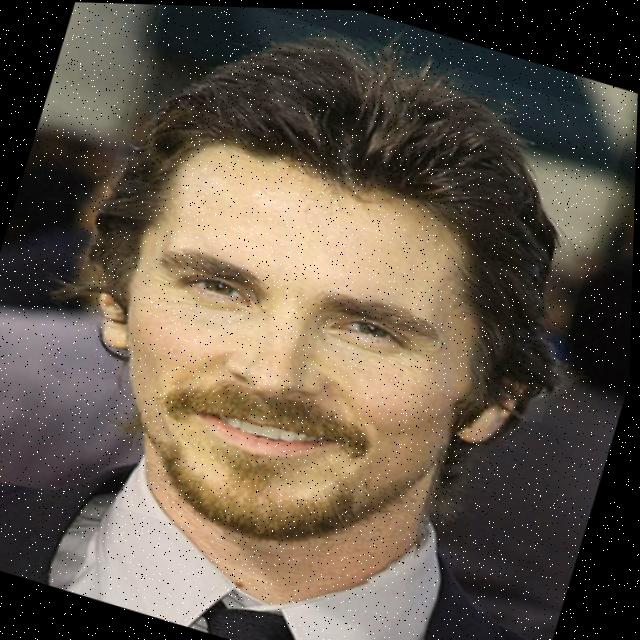hair: (91, 36, 559, 390), (142, 386, 439, 574)
